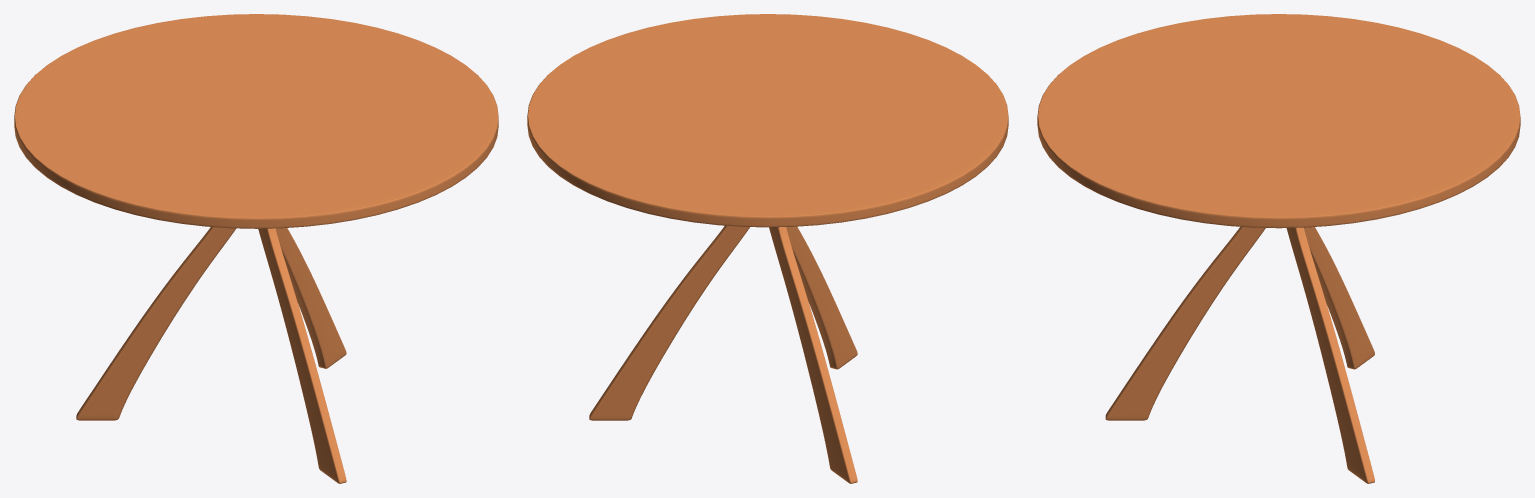
Rendered from MSH_Lobby_Mesa.fbx.
The picture shows the model from 3 angles, left to right: view 1: azimuth 30°, elevation 25°; view 2: azimuth 150°, elevation 25°; view 3: azimuth 270°, elevation 25°; orthographic projection.
Parts seen in each view (by area): view 1: MSH_Lobby_Mesa; view 2: MSH_Lobby_Mesa; view 3: MSH_Lobby_Mesa.
Part boxes in pixels (x1,y1,x2,y2): MSH_Lobby_Mesa: (14,14,498,483); MSH_Lobby_Mesa: (527,14,1008,483); MSH_Lobby_Mesa: (1037,14,1520,483).
Bounding box in the file's own units: 132 × 91.81 × 132.
